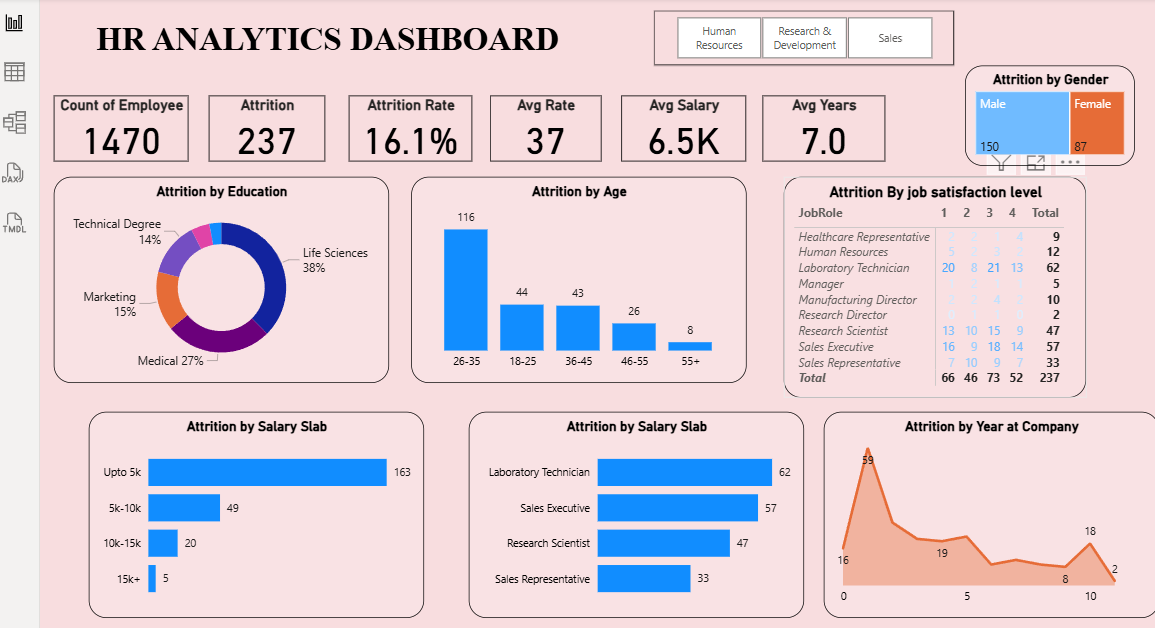

What the dashboard file says about the page in this screenshot:
{"tool":"powerbi","page":{"name":"Page 1","canvas":[1280,720],"ordinal":0},"visuals":[{"type":"card","title":"Count of Employee","fields":{"Values":["Count(HR_Analytics.EmpID)"]},"box":[15.7,111.2,153.9,75.5],"z":0},{"type":"card","title":"Attrition","fields":{"Values":["Sum(HR_Analytics.Attrition_Count)"]},"box":[192.4,111.2,132.6,75.5],"z":1},{"type":"card","title":"Attrition Rate","fields":{"Values":["HR_Analytics.AttritionRate"]},"box":[352.1,111.2,141.1,75.5],"z":2},{"type":"card","title":"Avg Rate","fields":{"Values":["Avg(HR_Analytics.Age)"]},"box":[513.1,111.2,126.9,75.5],"z":3},{"type":"card","title":"Avg Salary","fields":{"Values":["Avg(HR_Analytics.MonthlyIncome)"]},"box":[662.8,111.2,142.5,75.5],"z":4},{"type":"card","title":"Avg Years","fields":{"Values":["Avg(HR_Analytics.YearsAtCompany)"]},"box":[823.9,111.2,139.7,75.5],"z":5},{"type":"donutChart","title":"Attrition by Education","fields":{"Category":["HR_Analytics.EducationField"],"Y":["Sum(HR_Analytics.Attrition_Count)"]},"box":[15.7,203.8,382,235.2],"z":6},{"type":"columnChart","title":"Attrition by Age","fields":{"Category":["HR_Analytics.AgeGroup"],"Y":["Sum(HR_Analytics.Attrition_Count)"]},"box":[423.3,203.8,382,235.2],"z":7},{"type":"pivotTable","title":"Attrition By job satisfaction level","fields":{"Rows":["HR_Analytics.JobRole"],"Columns":["HR_Analytics.JobSatisfaction"],"Values":["Sum(HR_Analytics.Attrition_Count)"]},"box":[848.1,203.8,344.9,252.3],"z":8},{"type":"barChart","title":"Attrition by Salary Slab","fields":{"Category":["HR_Analytics.SalarySlab"],"Y":["Sum(HR_Analytics.Attrition_Count)"]},"box":[55.6,471.8,382,235.2],"z":9},{"type":"barChart","title":"Attrition by Salary Slab","fields":{"Y":["Sum(HR_Analytics.Attrition_Count)"],"Category":["HR_Analytics.JobRole"]},"box":[488.9,471.8,382,235.2],"z":10},{"type":"areaChart","title":"Attrition by Year at Company","fields":{"Category":["HR_Analytics.YearsAtCompany"],"Y":["Sum(HR_Analytics.Attrition_Count)"]},"box":[893.7,471.8,382,235.2],"z":11},{"type":"treemap","title":"Attrition by Gender","fields":{"Group":["HR_Analytics.Gender"],"Values":["Sum(HR_Analytics.Attrition_Count)"]},"box":[1054.8,77,193.9,114],"z":12},{"type":"slicer","fields":{"Values":["HR_Analytics.Department"]},"box":[699.9,14.3,342.1,62.7],"z":13},{"type":"textbox","box":[15.7,20,624.3,57],"z":14}]}

Visuals, with their boxes in screenshot pixels (x1, y1, x2, y2):
"Count of Employee" card: locate(145, 122, 273, 185)
"Attrition" card: locate(292, 122, 402, 185)
"Attrition Rate" card: locate(425, 122, 542, 185)
"Avg Rate" card: locate(558, 122, 664, 185)
"Avg Salary" card: locate(683, 122, 801, 185)
"Avg Years" card: locate(817, 122, 933, 185)
"Attrition by Education" donutChart: locate(145, 199, 463, 395)
"Attrition by Age" columnChart: locate(484, 199, 801, 395)
"Attrition By job satisfaction level" pivotTable: locate(837, 199, 1123, 409)
"Attrition by Salary Slab" barChart: locate(179, 422, 496, 617)
"Attrition by Salary Slab" barChart: locate(538, 422, 856, 617)
"Attrition by Year at Company" areaChart: locate(875, 422, 1154, 617)
"Attrition by Gender" treemap: locate(1008, 94, 1154, 189)
slicer - HR_Analytics.Department: locate(714, 42, 998, 94)
textbox: locate(145, 47, 664, 94)
